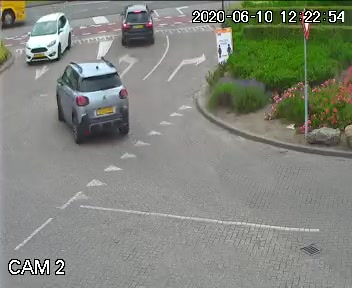car: (50, 57, 133, 148), (22, 10, 73, 64), (121, 0, 157, 49)
